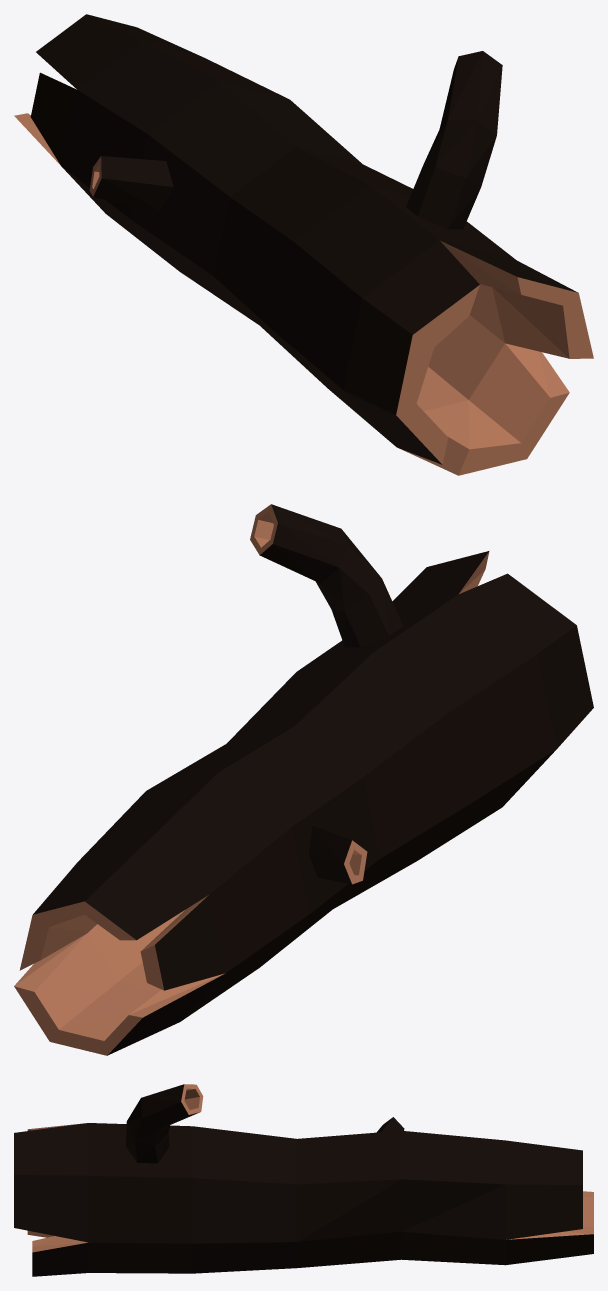
File: tong1.fbx
3 renders of one model, top to bottom at view 1: azimuth 30°, elevation 25°; view 2: azimuth 150°, elevation 25°; view 3: azimuth 270°, elevation 25°, orthographic. The views are drawn at different scales.
Parts seen in each view (by area): view 1: Tube001; view 2: Tube001; view 3: Tube001.
Part boxes in pixels (x1,y1,x2,y2): Tube001: (14,14,593,475); Tube001: (14,504,593,1055); Tube001: (14,1084,593,1276).
Bounding box in the file's own units: 18.33 × 21.24 × 51.95.
